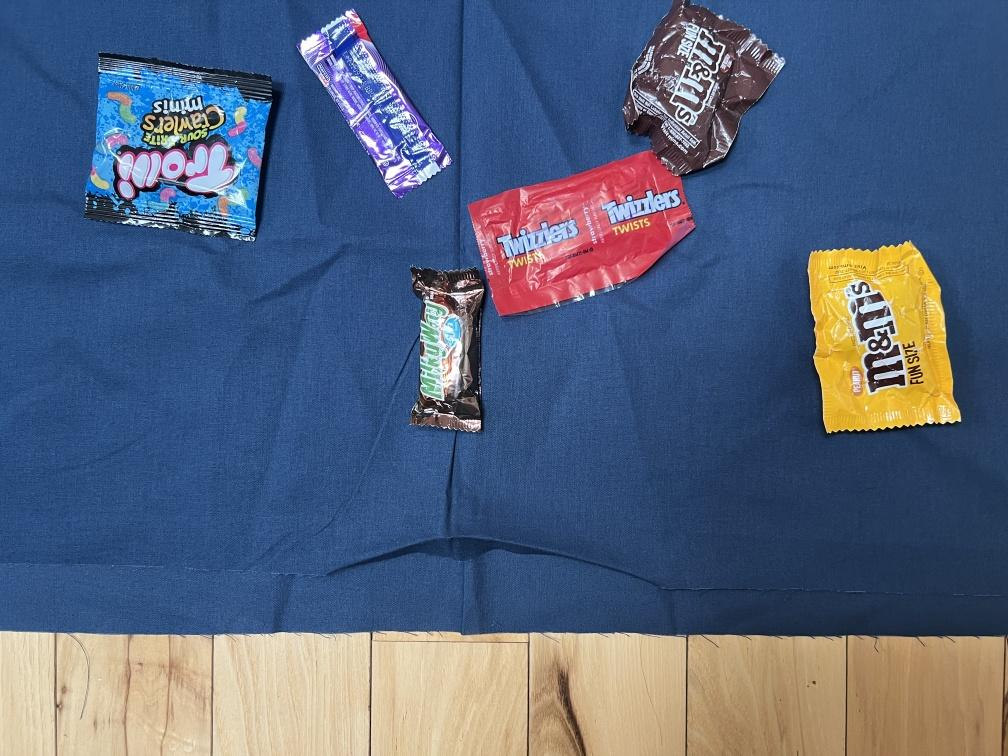MM_regular: (623, 1, 785, 176)
MM_yellow: (806, 240, 962, 432)
Trolli: (84, 52, 278, 240)
airheads: (302, 7, 454, 197)
milky_way: (406, 265, 486, 434)
twizzlers: (475, 150, 686, 313)
